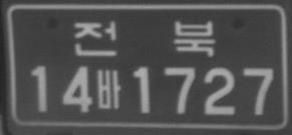1: (26, 65, 57, 113), (129, 65, 157, 113)
2: (203, 65, 236, 115)
4: (61, 65, 92, 112)
7: (163, 66, 196, 114), (242, 66, 274, 115)
바: (96, 69, 121, 109)
전북_D: (73, 20, 215, 56)
